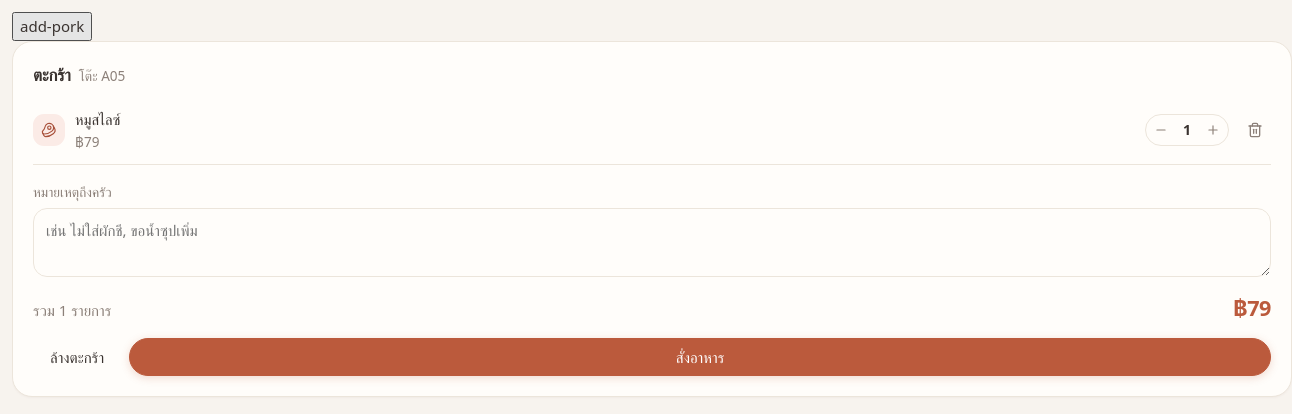
Test case: CartPanel › เพิ่มสินค้า ปรับจำนวน และคำนวณยอดรวม
This screenshot has width=1292, height=414.
Earlier steps of the test are not shown.
Click the button named "เพิ่มจำนวน" at (1213, 130), box [1198,115,1228,145]
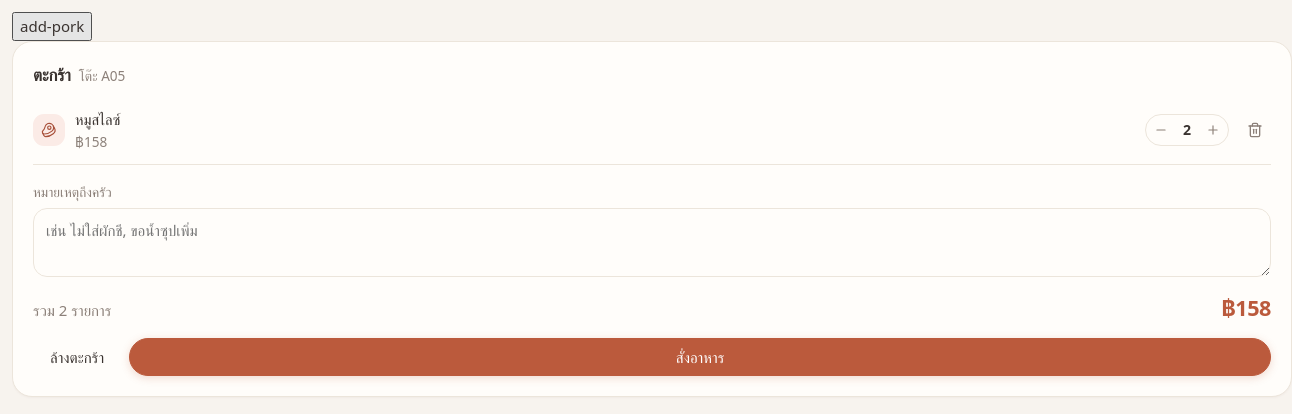
Expected: the text "รวม 2 รายการ" is shown, [33,299,111,322]
